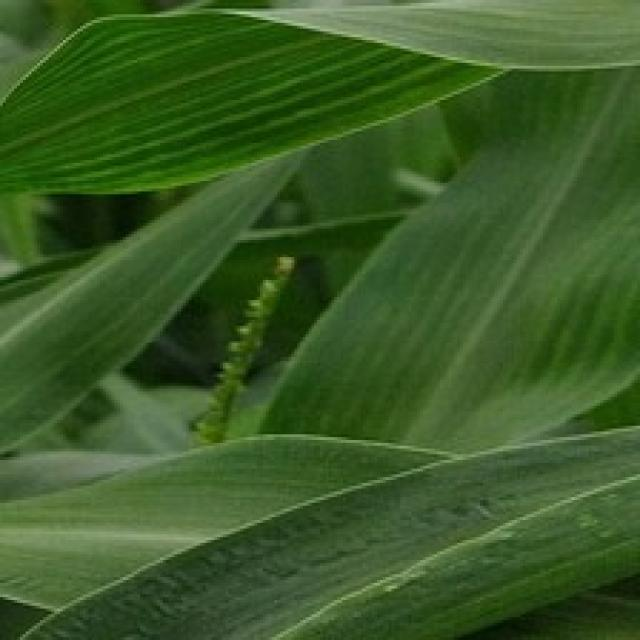Corn: (0, 0, 637, 637), (0, 406, 637, 637), (0, 0, 506, 203), (0, 143, 306, 463)
